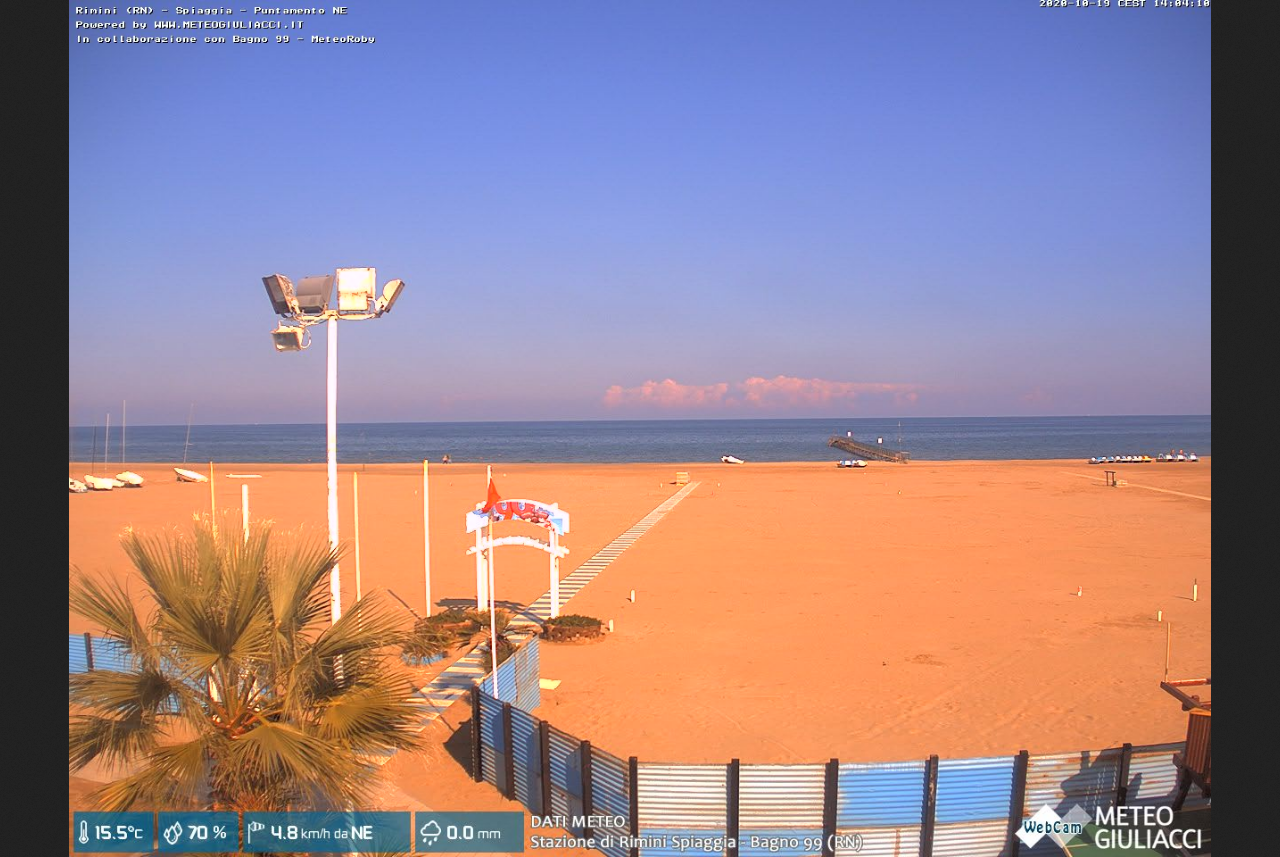maybe: (482, 478, 503, 520)
